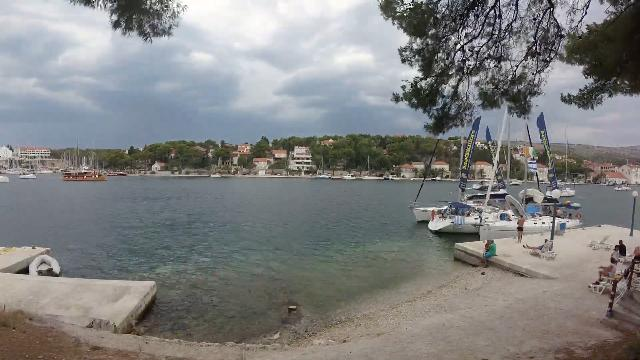Freighter: (58, 166, 110, 184)
Sailboat: (15, 168, 41, 182)
